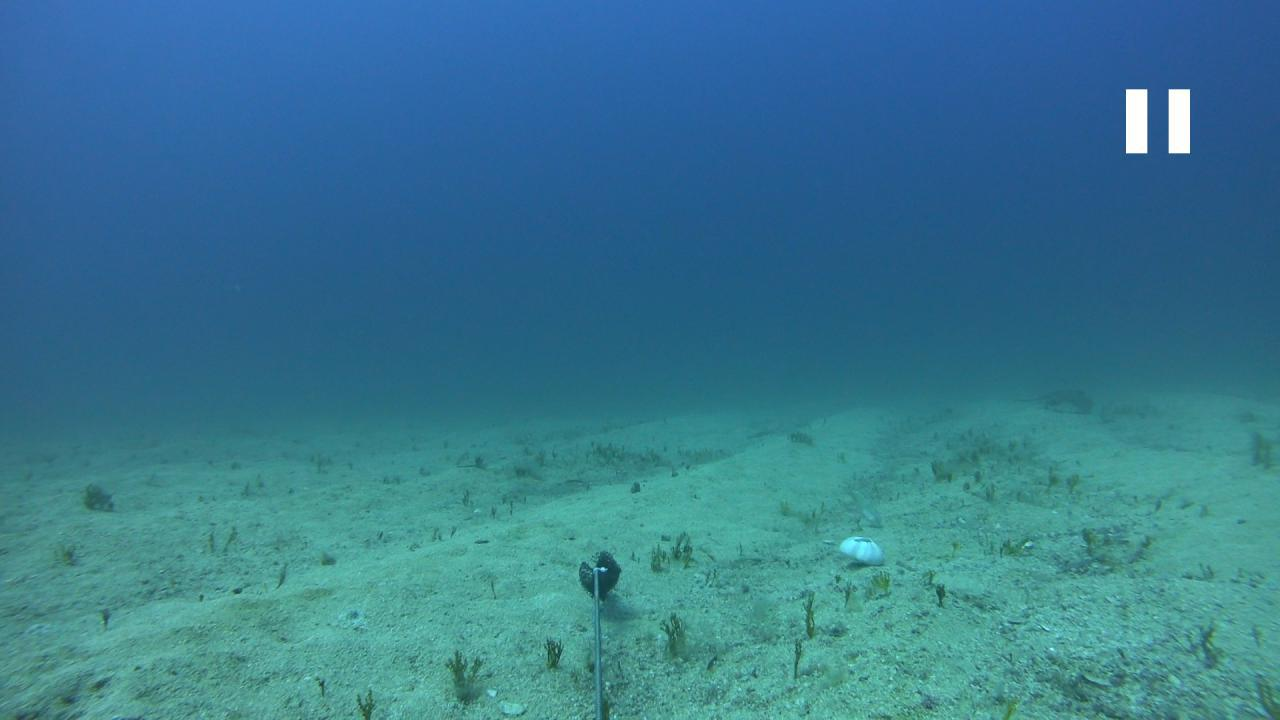dasyatis: (1012, 386, 1095, 416)
